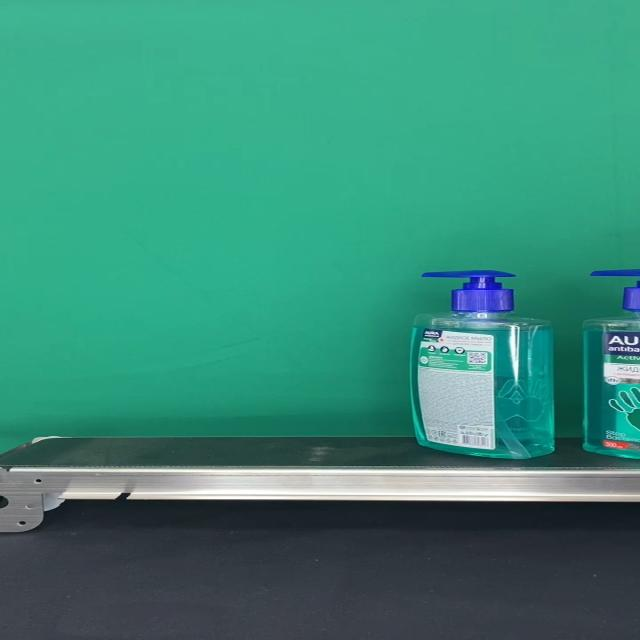Bottle: (409, 270, 554, 459)
Cap: (421, 270, 517, 312)
